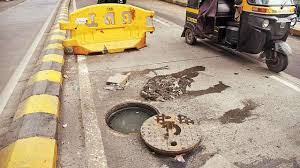Manhole-Open: (99, 94, 170, 139)
